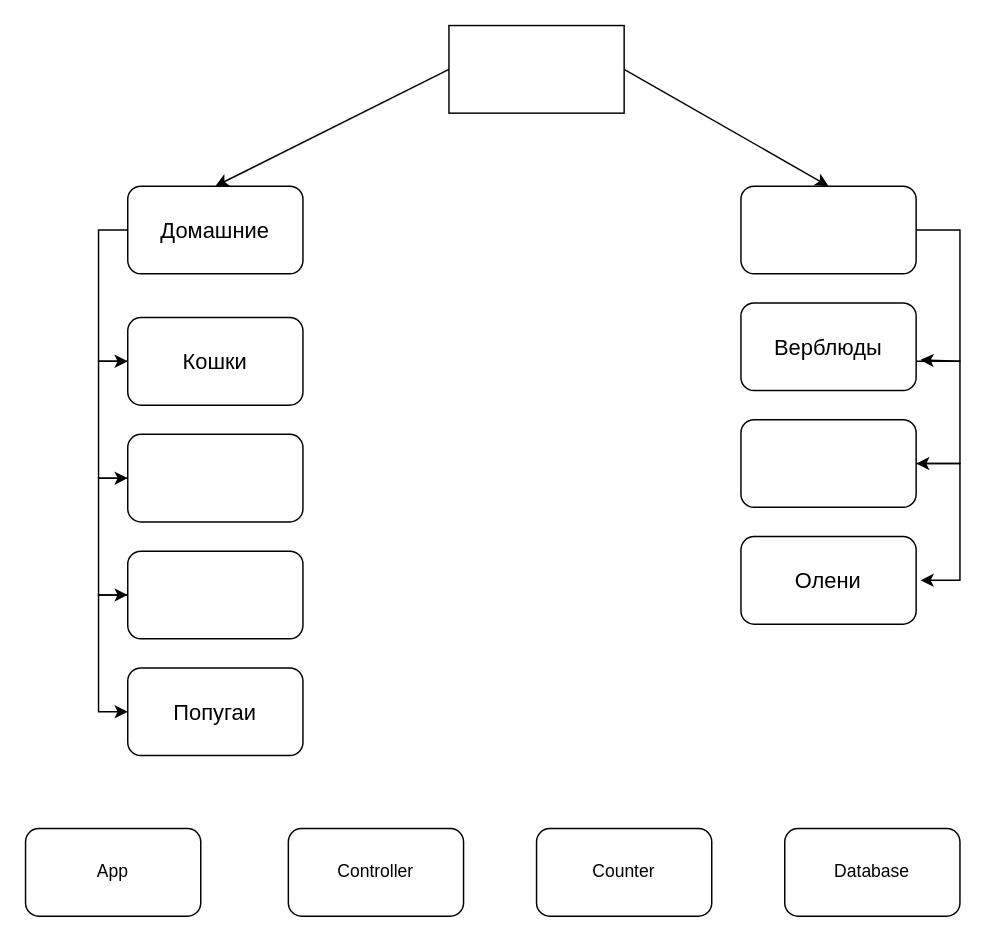
The diagram is 997 pixels wide and 942 high, and some of its shapes have lost their labels. Here are the shapes that lost their labels. From the top down, the centre of each, then its label:
(535,68): Животные
(827,229): Вьючные
(214,477): Собаки
(827,462): Ослы
(214,594): Коровы
